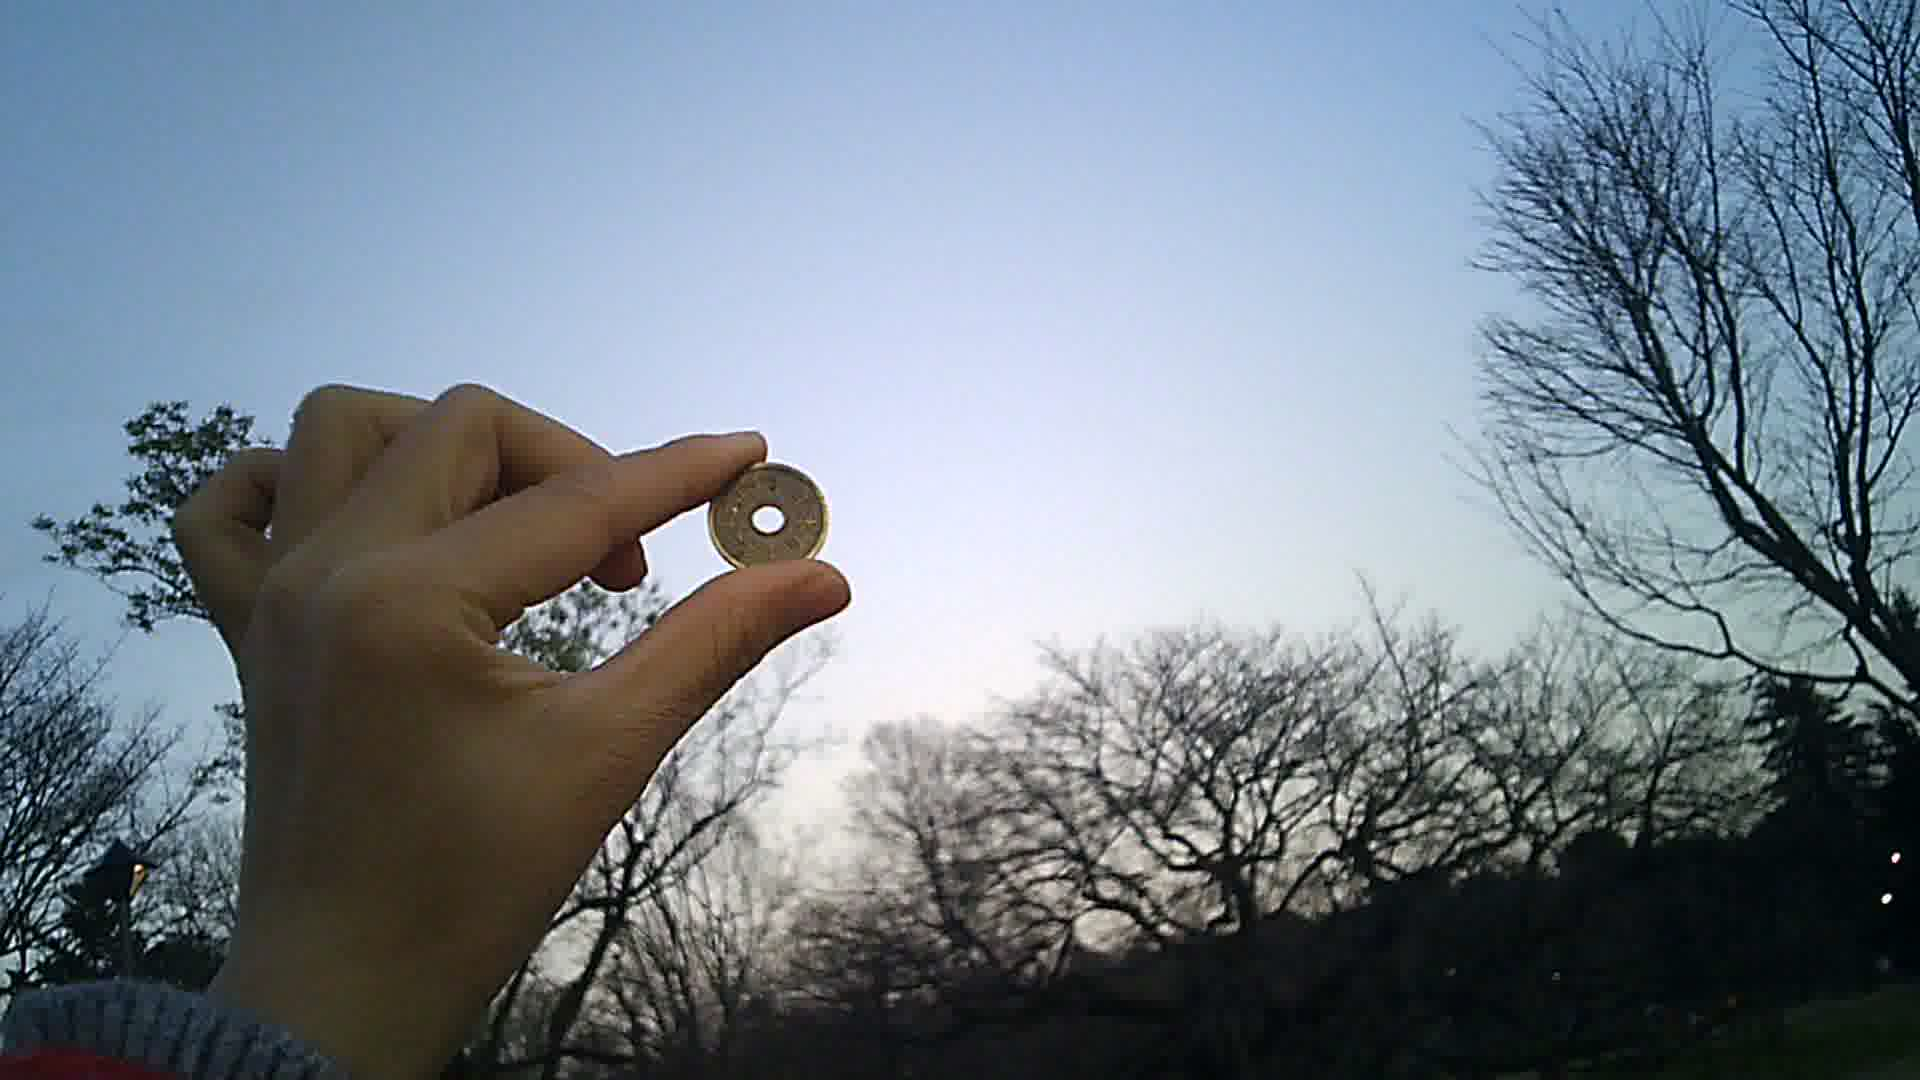5 Yen: (698, 458, 845, 570)
